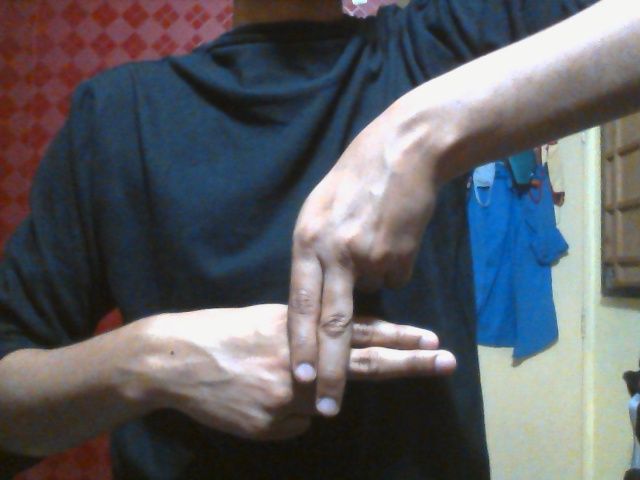F: (167, 149, 458, 443)
